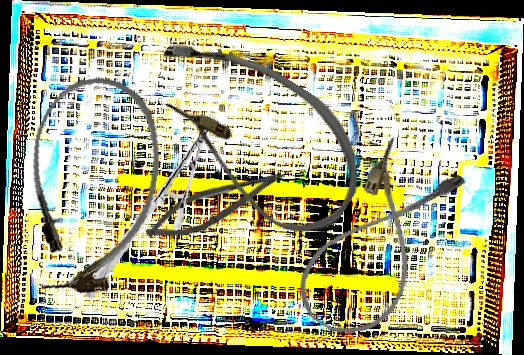Cannula: (118, 16, 388, 252), (284, 132, 473, 353), (12, 68, 172, 304)
Micro Scissor: (139, 152, 291, 255)
Needle Holder: (83, 111, 214, 310)
